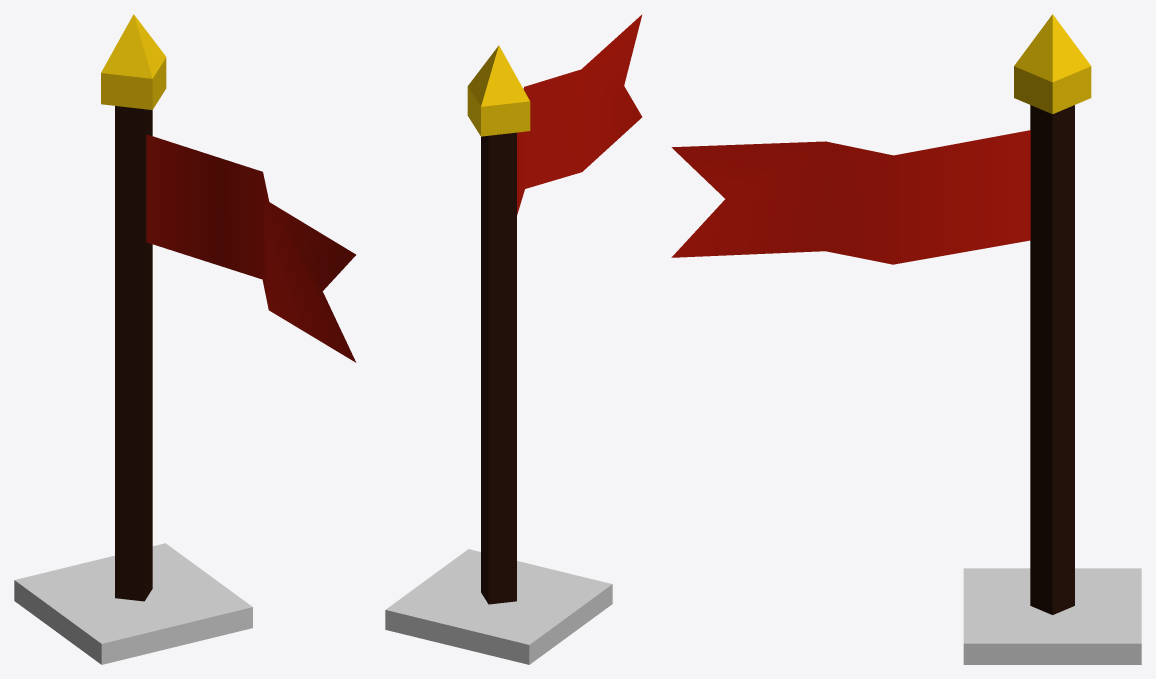
The model's file is flag2.fbx.
3 renders of one model, left to right at view 1: azimuth 30°, elevation 25°; view 2: azimuth 150°, elevation 25°; view 3: azimuth 270°, elevation 25°, orthographic. The views are drawn at different scales.
Parts seen in each view (by area): view 1: flag, Mesh1__复制__1; view 2: flag, Mesh1__复制__1; view 3: flag, Mesh1__复制__1.
Boxes of the visible parts, x1=… form: flag: x1=14, y1=14, x2=252, y2=664; Mesh1__复制__1: x1=146, y1=134, x2=356, y2=362; flag: x1=385, y1=45, x2=612, y2=664; Mesh1__复制__1: x1=517, y1=14, x2=642, y2=214; flag: x1=963, y1=14, x2=1141, y2=664; Mesh1__复制__1: x1=671, y1=130, x2=1030, y2=264.
Size of the model in its own units: 26.73 by 101 by 70.57.
